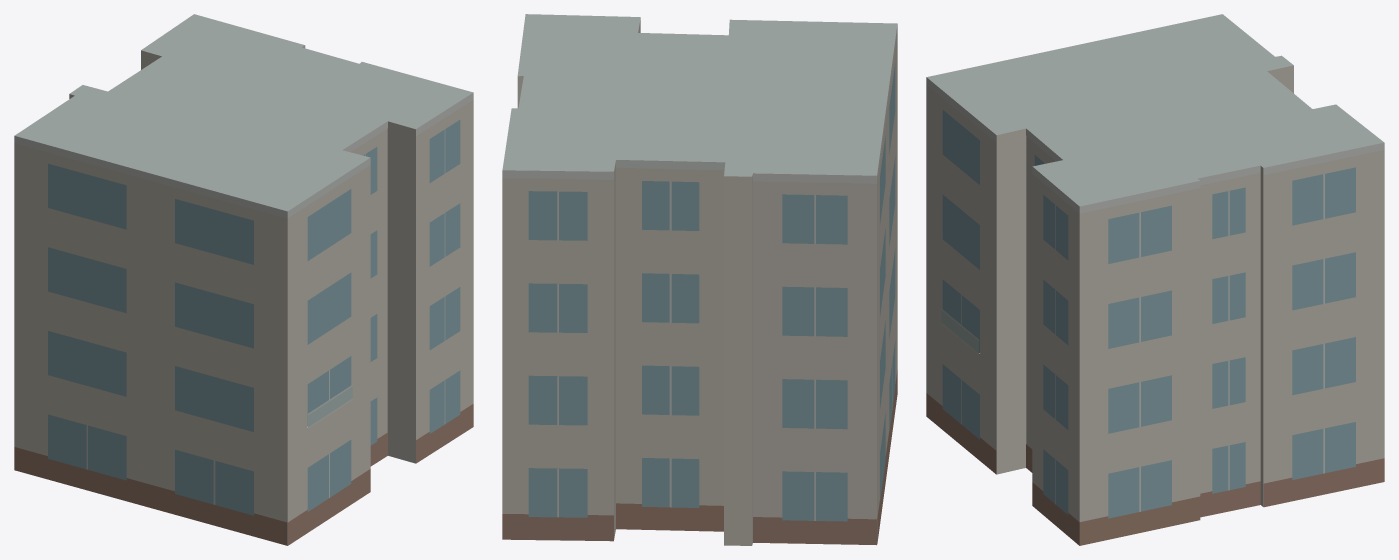
Rendered from survey-upis-32833933.glb.
The picture shows the model from 3 angles, left to right: view 1: azimuth 30°, elevation 25°; view 2: azimuth 150°, elevation 25°; view 3: azimuth 270°, elevation 25°; orthographic projection. The views are drawn at different scales.
Parts seen in each view (by area): view 1: survey-upis-32833933.tmp; view 2: survey-upis-32833933.tmp; view 3: survey-upis-32833933.tmp.
Part boxes in pixels (x1=…): survey-upis-32833933.tmp: x1=14, y1=14, x2=473, y2=545; survey-upis-32833933.tmp: x1=502, y1=14, x2=897, y2=545; survey-upis-32833933.tmp: x1=926, y1=14, x2=1384, y2=545.
Bounding box in the file's own units: 13.9 × 11.42 × 13.98.
